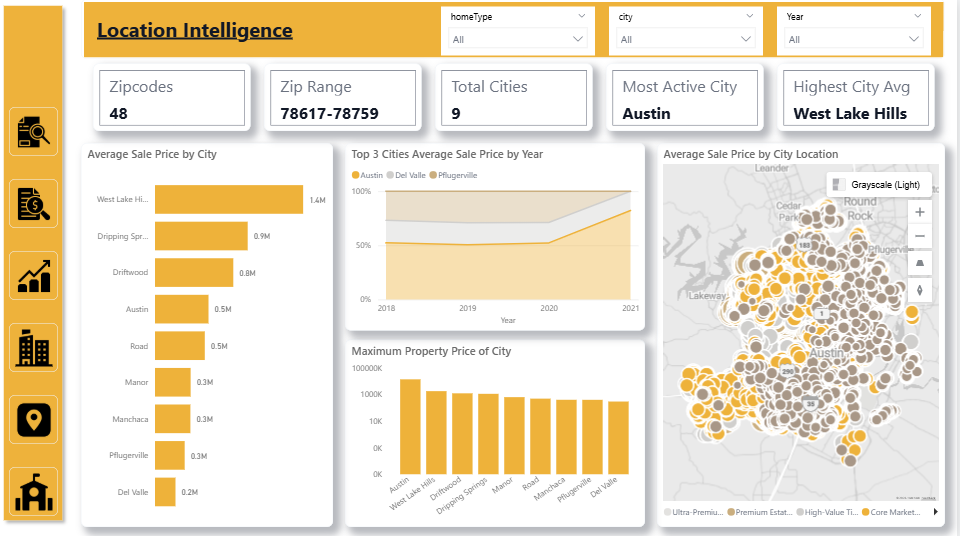

Layout of this report page (visuals, bound fields, positions):
{"tool":"powerbi","page":{"name":"Location Intelligence","canvas":[1280,720],"ordinal":4},"visuals":[{"type":"cardVisual","fields":{"Data":["Measure.Zipcodes"]},"box":[128,85,210,90],"z":0},{"type":"cardVisual","fields":{"Data":["Measure.Cities"]},"box":[584,85,210,90],"z":1000},{"type":"cardVisual","fields":{"Data":["Measure.Zip Range"]},"box":[356,85,210,90],"z":2000},{"type":"cardVisual","fields":{"Data":["Measure.Most Active City"]},"box":[812,85,210,90],"z":3000},{"type":"cardVisual","fields":{"Data":["Measure.Highest City Avg"]},"box":[1040,85,210,90],"z":4000},{"type":"barChart","title":"Average Sale Price by City","fields":{"Y":["Measure.Avg Sale Price"],"Category":["Dim_Location.city"]},"box":[112,192,336,512],"z":5000},{"type":"clusteredColumnChart","title":"Maximum Property Price of City","fields":{"Category":["Dim_Location.city"],"Y":["Measure.Max Price"]},"box":[464,453,400,250],"z":6000},{"type":"azureMap","title":"Average Sale Price by City Location","fields":{"Y":["Dim_Location.latitude"],"X":["Dim_Location.longitude"],"Series":["Fact_Housing.Market Segment"],"Size":["Measure.Avg Sale Price"]},"box":[880,192,384,512],"z":7000},{"type":"hundredPercentStackedAreaChart","title":"Top 3 Cities Average Sale Price by Year","fields":{"Category":["Fact_Housing.latest_saledate.Variation.Date Hierarchy.Year"],"Series":["Dim_Location.city"],"Y":["Measure.Avg Sale Price"]},"box":[464,192,400,250],"z":8000},{"type":"shape","box":[0,0,96,704],"z":9000},{"type":"image","box":[16,144,65,65],"z":10000},{"type":"image","box":[16,240,65,65],"z":11000},{"type":"image","box":[16,336,65,65],"z":12000},{"type":"image","box":[16,432,65,65],"z":13000},{"type":"image","box":[16,528,65,65],"z":14000},{"type":"image","box":[16,624,65,65],"z":15000},{"type":"shape","box":[112,0,1152,80],"z":16000},{"type":"slicer","fields":{"Values":["Fact_Housing.latest_saledate.Variation.Date Hierarchy.Year"]},"box":[1040,10,205,65],"z":17000},{"type":"slicer","fields":{"Values":["Dim_Location.city"]},"box":[816,10,205,65],"z":18000},{"type":"slicer","fields":{"Values":["Dim_House_Details.homeType"]},"box":[592,10,205,65],"z":19000},{"type":"textbox","title":"Executive Overview","box":[128,16,320,64],"z":19001}]}

Visuals, with their boxes in screenshot pixels (x1, y1, x2, y2), scaled from the page's 1280x720 canvas onto the 960x536 screenshot:
cardVisual - Measure.Zipcodes: (96,63,254,130)
cardVisual - Measure.Cities: (438,63,596,130)
cardVisual - Measure.Zip Range: (267,63,424,130)
cardVisual - Measure.Most Active City: (609,63,766,130)
cardVisual - Measure.Highest City Avg: (780,63,938,130)
"Average Sale Price by City" barChart: (84,143,336,524)
"Maximum Property Price of City" clusteredColumnChart: (348,337,648,523)
"Average Sale Price by City Location" azureMap: (660,143,948,524)
"Top 3 Cities Average Sale Price by Year" hundredPercentStackedAreaChart: (348,143,648,329)
shape: (0,0,72,524)
image: (12,107,61,156)
image: (12,179,61,227)
image: (12,250,61,299)
image: (12,322,61,370)
image: (12,393,61,441)
image: (12,465,61,513)
shape: (84,0,948,60)
slicer - Fact_Housing.latest_saledate.Variation.Date Hierarchy.Year: (780,7,934,56)
slicer - Dim_Location.city: (612,7,766,56)
slicer - Dim_House_Details.homeType: (444,7,598,56)
"Executive Overview" textbox: (96,12,336,60)
